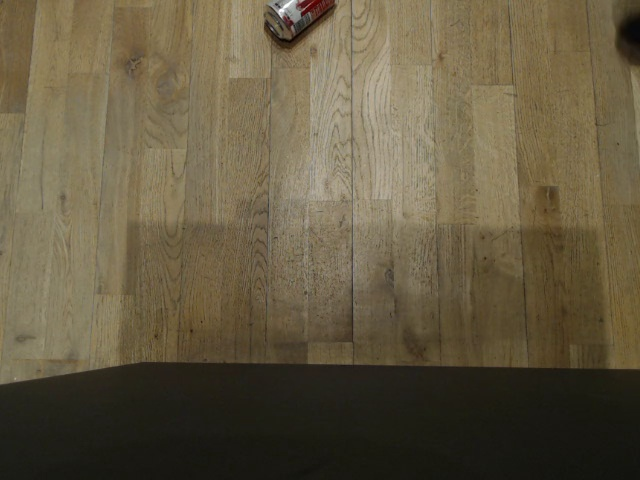cola: (262, 0, 338, 41)
